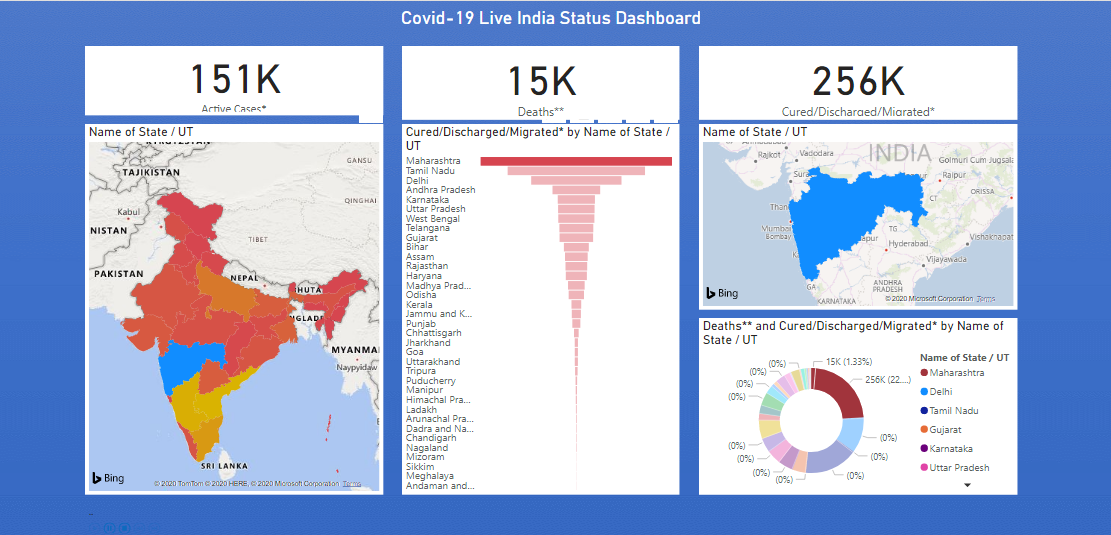

The page's visual inventory and layout, read from the dashboard file:
{"tool":"powerbi","page":{"name":"Page 1","canvas":[1280,720],"ordinal":0},"visuals":[{"type":"filledMap","fields":{"Category":["Table 1.Name of State / UT"]},"box":[9.9,166.3,400.1,497.4],"z":0},{"type":"filledMap","fields":{"Category":["Table 1.Name of State / UT"]},"box":[832.7,166.3,426.9,249.4],"z":1000},{"type":"funnel","fields":{"Y":["Sum(Table 1.Cured/Discharged/Migrated*)"],"Category":["Table 1.Name of State / UT"]},"box":[434,166.3,372,497.4],"z":2000},{"type":"textbox","title":"Covid-19 Live India Status Dashboard","box":[9.9,11.3,1249.8,35.2],"z":3000},{"type":"donutChart","fields":{"Y":["Sum(Table 1.Deaths**)","Sum(Table 1.Cured/Discharged/Migrated*)"],"Category":["Table 1.Name of State / UT"]},"box":[832.7,426.9,426.9,236.7],"z":4000},{"type":"card","fields":{"Values":["Sum(Table 1.Active Cases*)"]},"box":[9.9,62,400.1,93],"z":5000},{"type":"card","fields":{"Values":["Sum(Table 1.Cured/Discharged/Migrated*)"]},"box":[832.7,62,426.9,98.6],"z":6000},{"type":"card","fields":{"Values":["Sum(Table 1.Deaths**)"]},"box":[434,62,372,98.6],"z":7000},{"type":"PBI_CV_16948668_E17D_454B_8664_2F2C470EA8C1","fields":{"category":["Table 1.Name of State / UT"]},"box":[9.9,674.9,400.1,45.1],"z":7001}]}

Visuals, with their boxes on the page's 1280x720 design canvas (x1, y1, x2, y2). These are canvas units, not pixel positions in the 1111x535 screenshot, which may show the page scaled, cropped or inside an application window:
filledMap - Table 1.Name of State / UT: {"x1": 10, "y1": 166, "x2": 410, "y2": 664}
filledMap - Table 1.Name of State / UT: {"x1": 833, "y1": 166, "x2": 1260, "y2": 416}
funnel - Sum(Table 1.Cured/Discharged/Migrated*) x Table 1.Name of State / UT: {"x1": 434, "y1": 166, "x2": 806, "y2": 664}
"Covid-19 Live India Status Dashboard" textbox: {"x1": 10, "y1": 11, "x2": 1260, "y2": 46}
donutChart - Sum(Table 1.Deaths**) x Sum(Table 1.Cured/Discharged/Migrated*): {"x1": 833, "y1": 427, "x2": 1260, "y2": 664}
card - Sum(Table 1.Active Cases*): {"x1": 10, "y1": 62, "x2": 410, "y2": 155}
card - Sum(Table 1.Cured/Discharged/Migrated*): {"x1": 833, "y1": 62, "x2": 1260, "y2": 161}
card - Sum(Table 1.Deaths**): {"x1": 434, "y1": 62, "x2": 806, "y2": 161}
PBI_CV_16948668_E17D_454B_8664_2F2C470EA8C1 - Table 1.Name of State / UT: {"x1": 10, "y1": 675, "x2": 410, "y2": 720}
